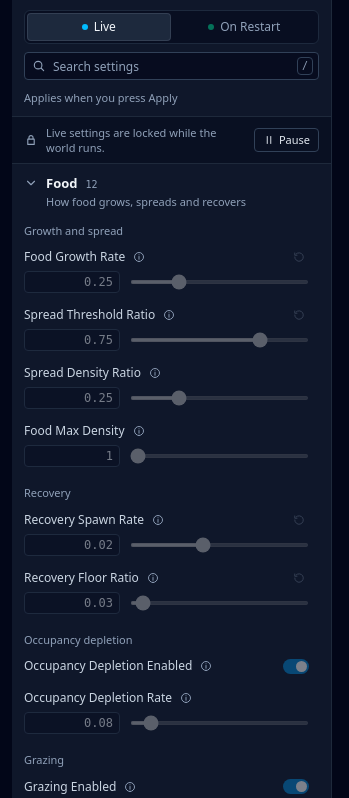
Test: ConfigPanel › while the world runs › explains the lock once and offers Pause
Expected: the element with test id "config-locked" shows "locked while the world runs", [46,125,216,155]
Click the button with test id "config-locked-pause".
click(286, 140)  # box [254,128,319,152]
(page scrolled)
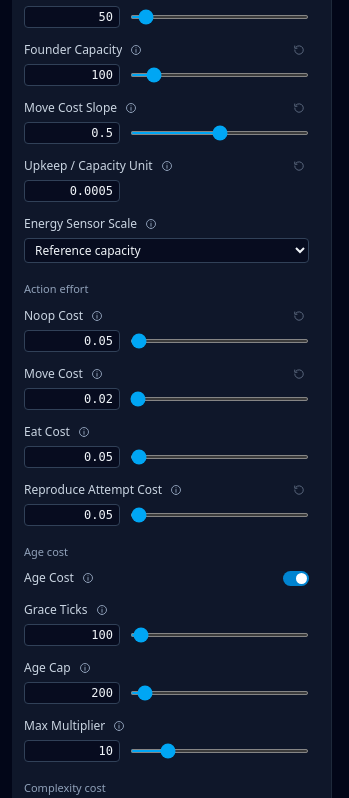
Expected: the element with test id "config-locked" is gone
Expected: the number field with test id "config-field-energy-costs-move-cost" is enabled, [24,388,120,410]
